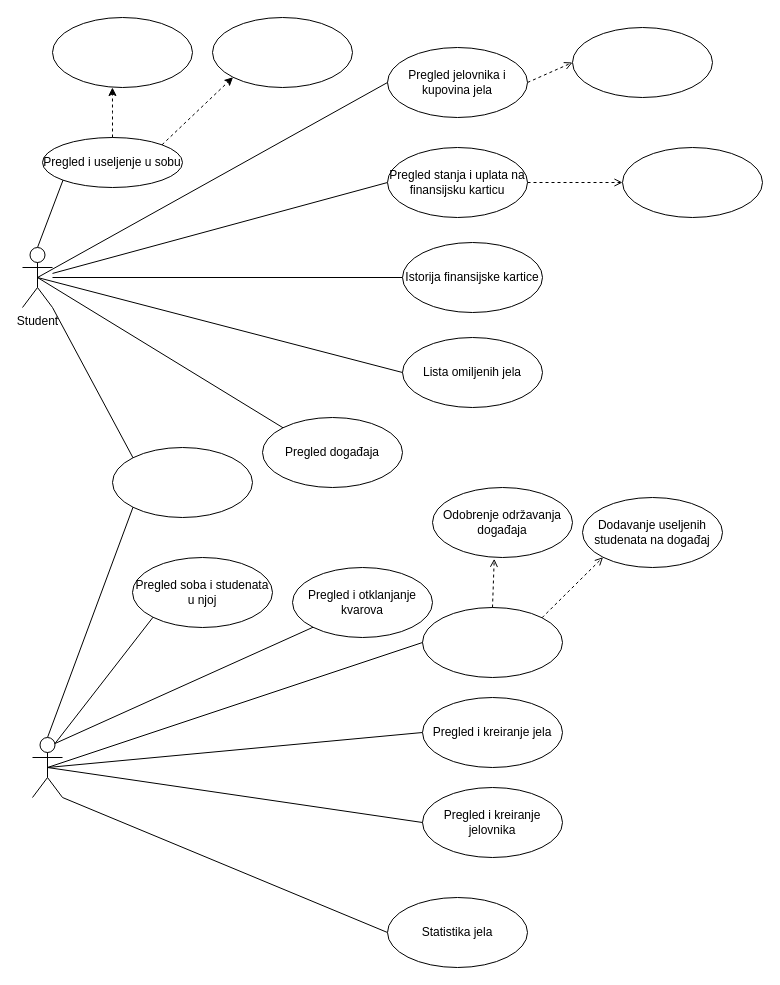
Image size: 780x985. Some labels were removed from this diagram. The shapes that lost their labels are listed below. From the top down, each one's centre as x and y in pixels, then its label:
At point 122,52: "Prijava kvara u sobi".
At point 282,52: "Review sobe".
At point 642,62: "Review jela".
At point 692,182: "Kupovina obroka".
At point 182,482: "Obaveštenja".
At point 492,642: "Pregled i kreiranje događaja".
At point 47,767: "Admin".
